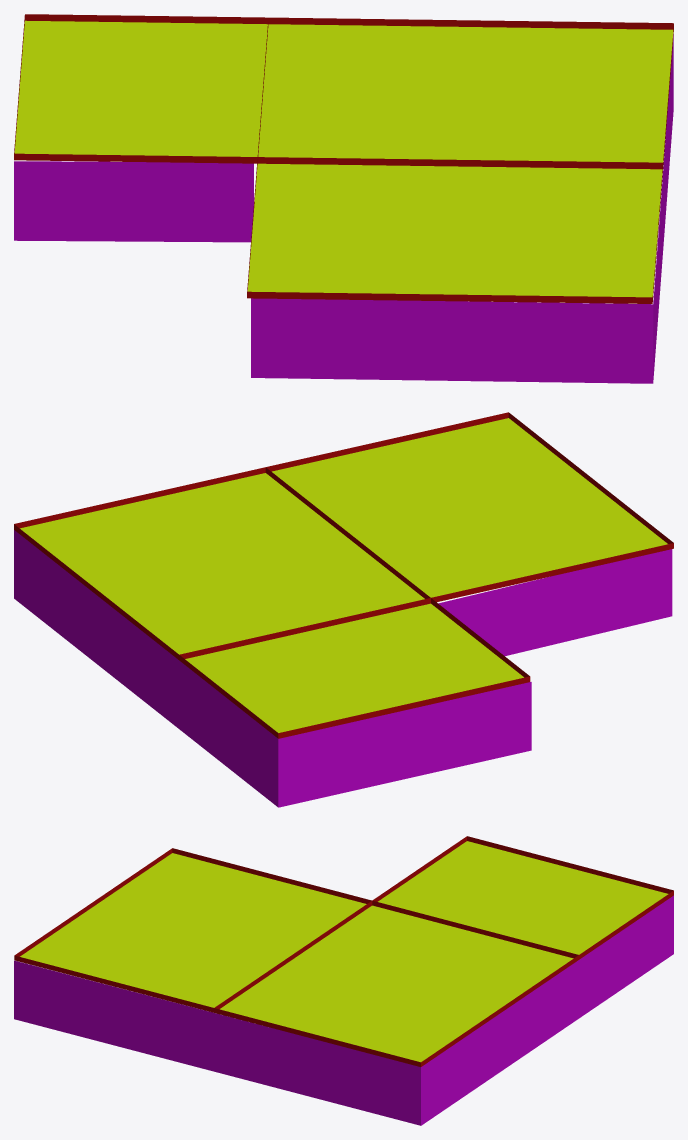
File: bgj_119.glb
3 views of the same model, one above another, from view 1: azimuth 30°, elevation 25°; view 2: azimuth 150°, elevation 25°; view 3: azimuth 270°, elevation 25° (orthographic). The views are drawn at different scales.
Parts seen in each view (by area): view 1: bgj_119; view 2: bgj_119; view 3: bgj_119.
Part boxes in pixels (x1,y1,x2,y2): bgj_119: [14, 14, 673, 383]; bgj_119: [14, 412, 673, 807]; bgj_119: [14, 836, 673, 1125].
Bounding box in the file's own units: 34.72 × 4.55 × 42.73.
